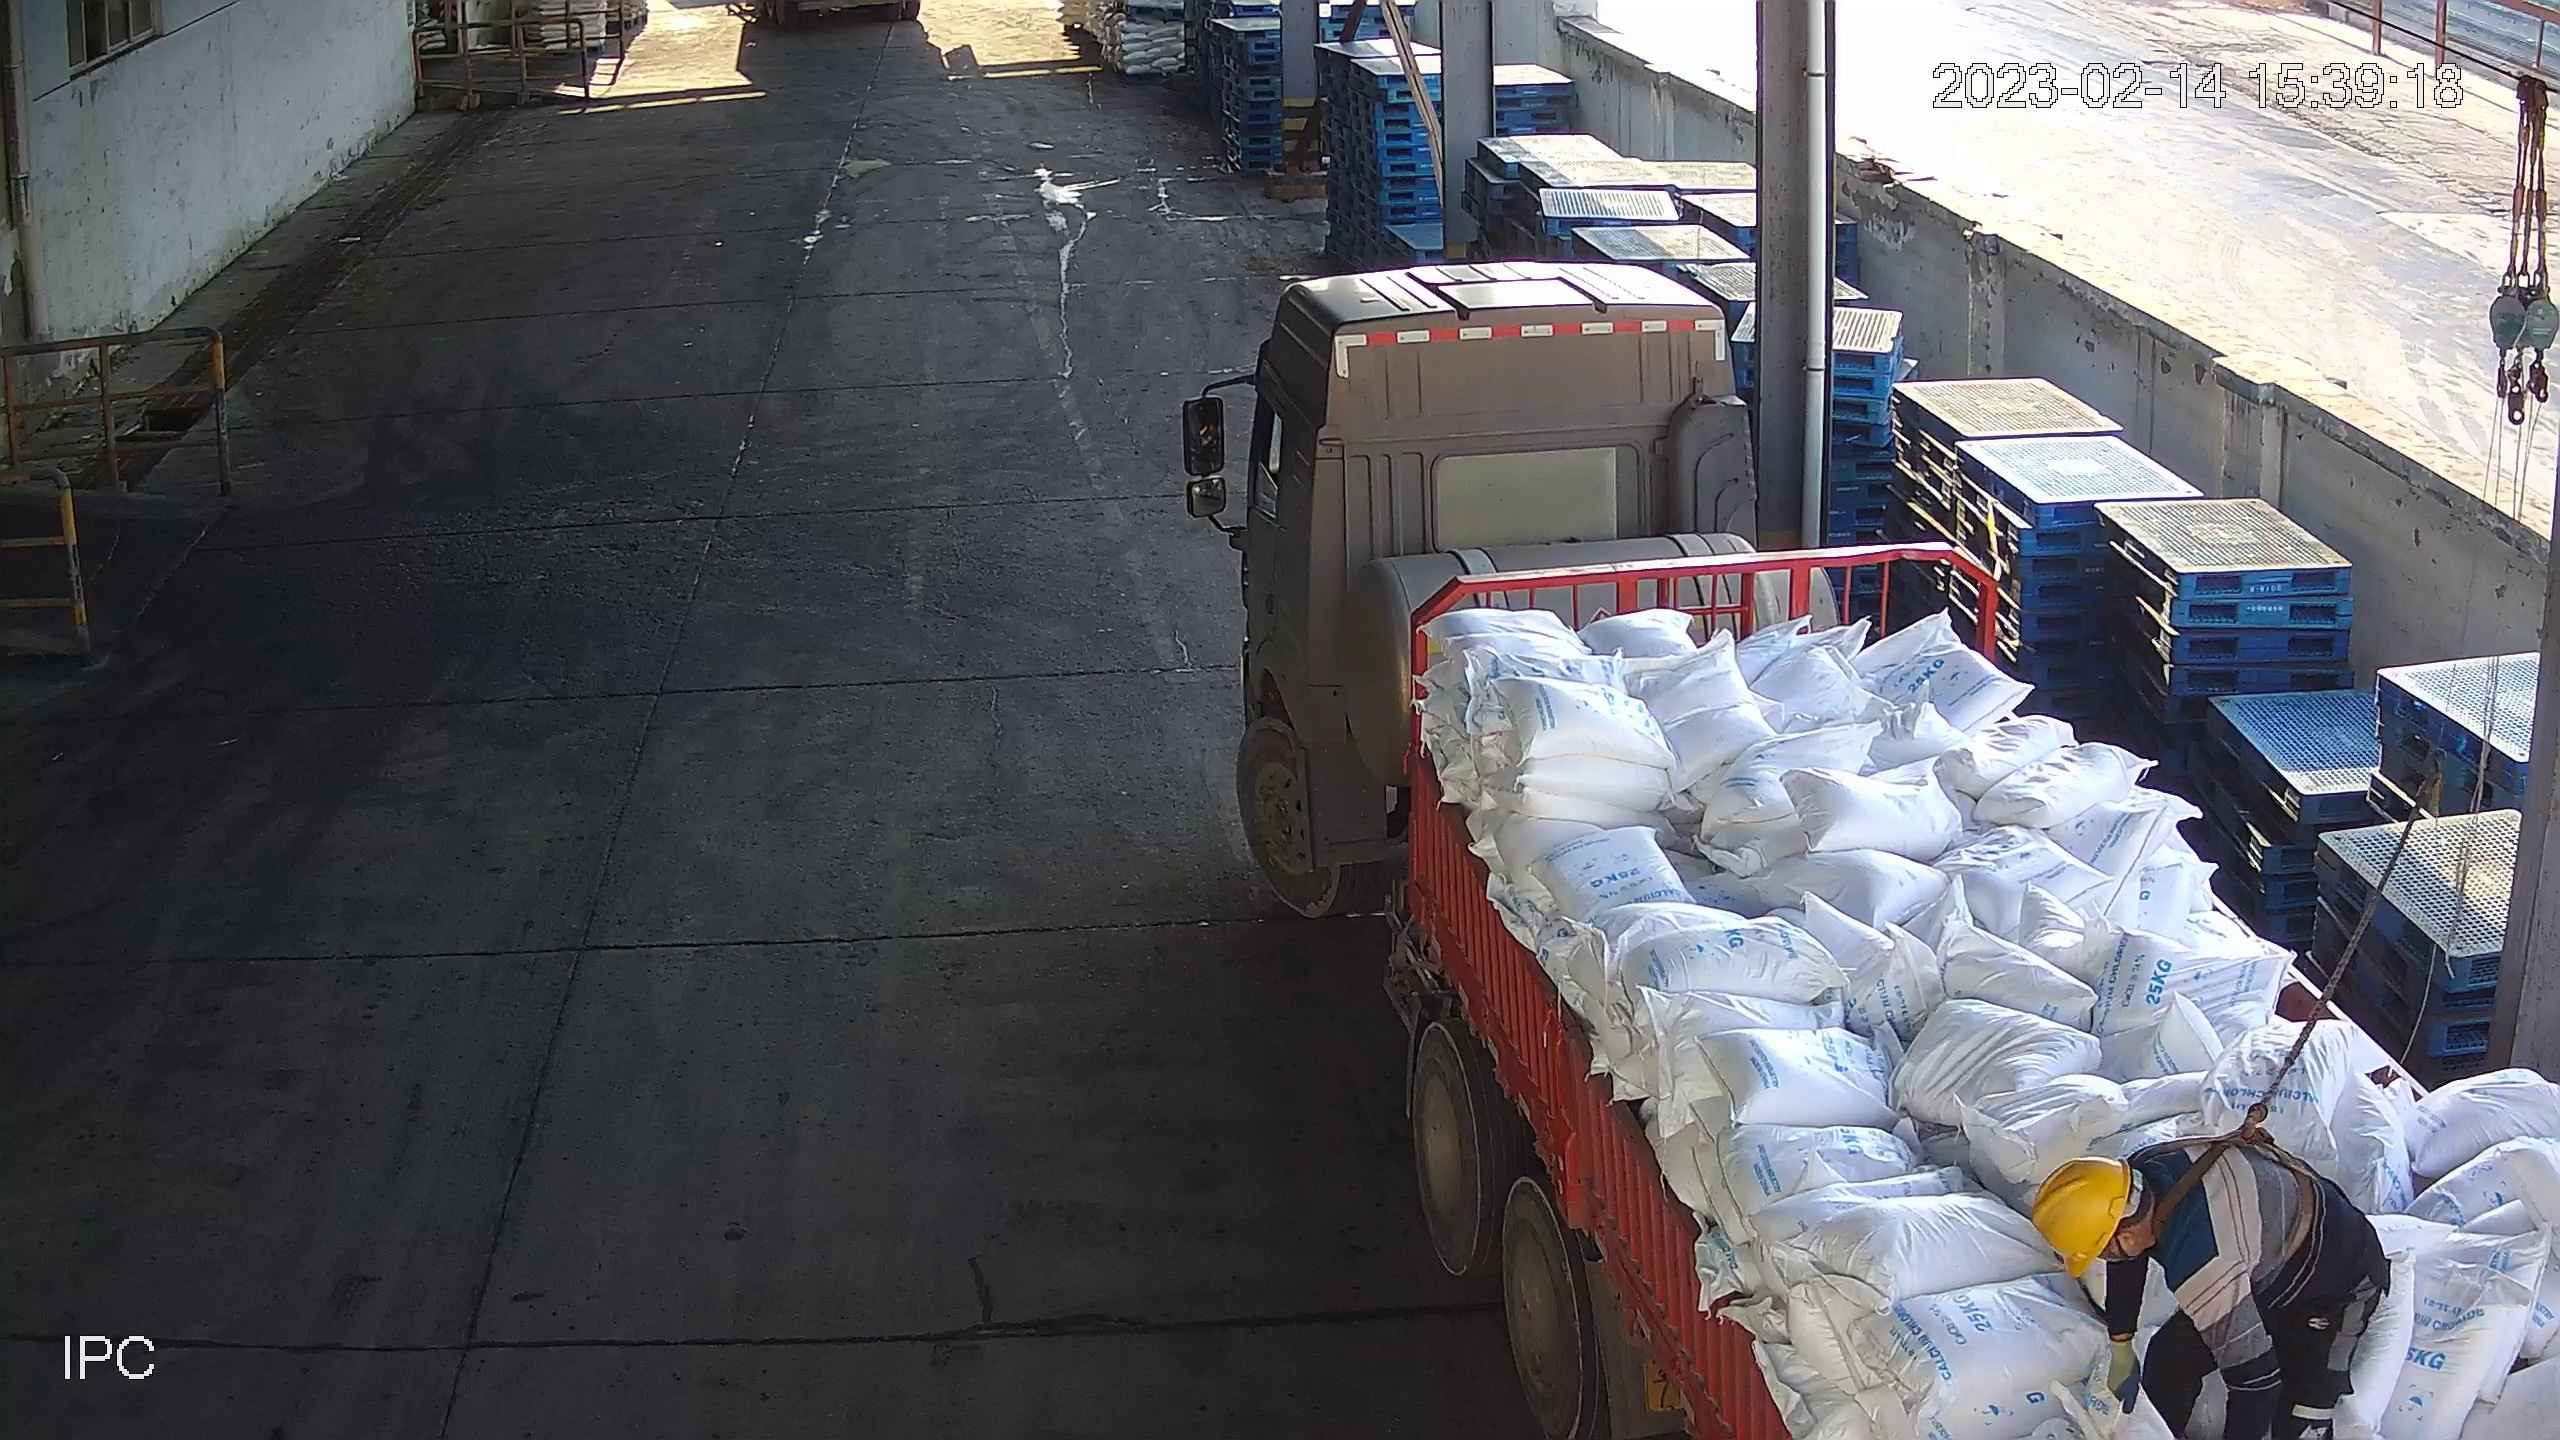belt: (2144, 1099, 2302, 1243)
head: (2044, 1127, 2237, 1306)
helmet: (2035, 1158, 2127, 1283)
people: (2034, 1120, 2390, 1440)
truck: (1184, 257, 2560, 1440)
